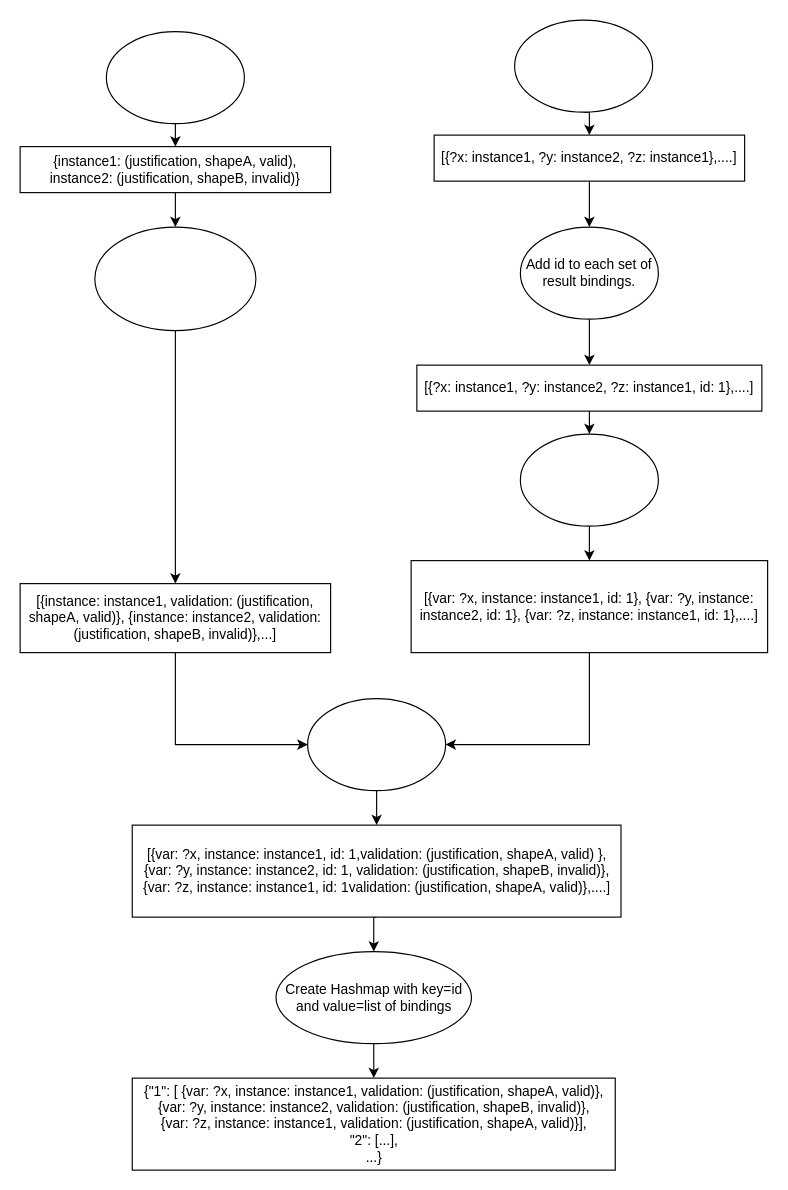
Some shapes in this 788 by 1190 pixel diagram are drawn without their labels. The centre of each missing label's shape, as x and y in pixels:
Query starshaped Query with contactsource.py: point (583, 65)
Split sets: point (588, 479)
Split up instances into dicts: point (175, 278)
Validate (Reduced) ShapeNetwork with TravSHACL/S2S: point (174, 77)
XJoin: point (376, 744)
